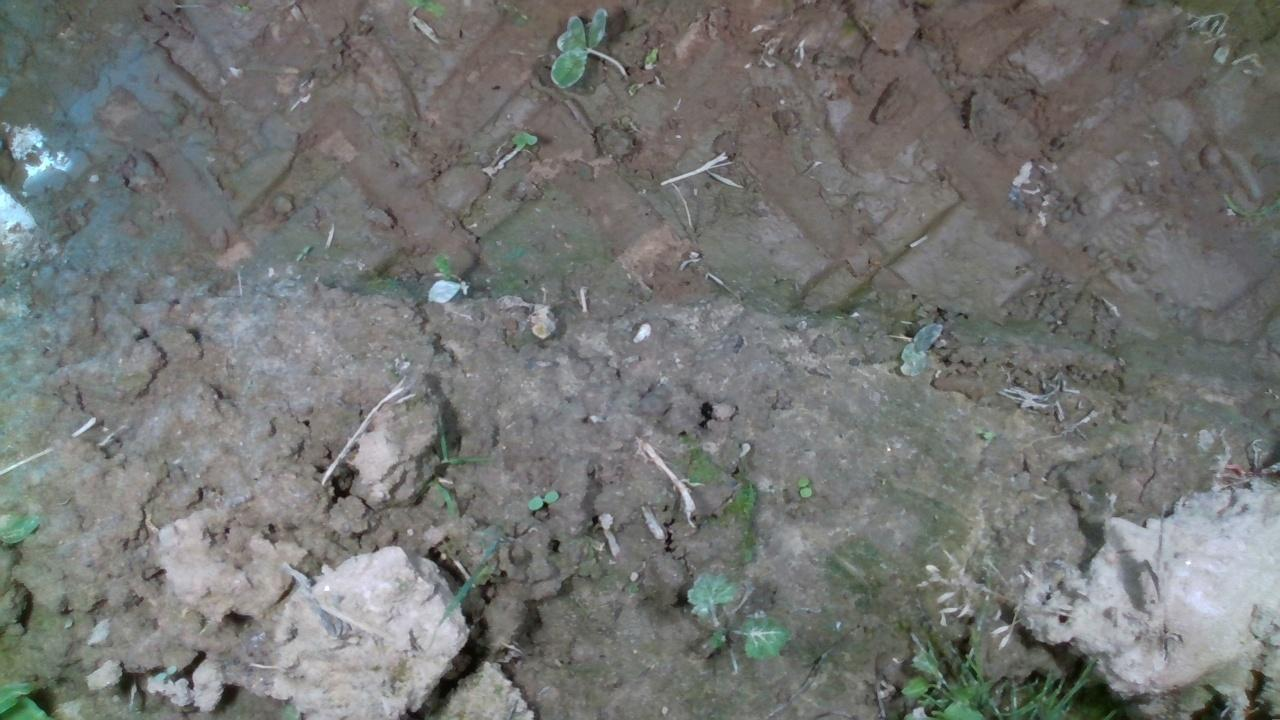weed: (524, 486, 557, 511), (796, 475, 812, 499)
